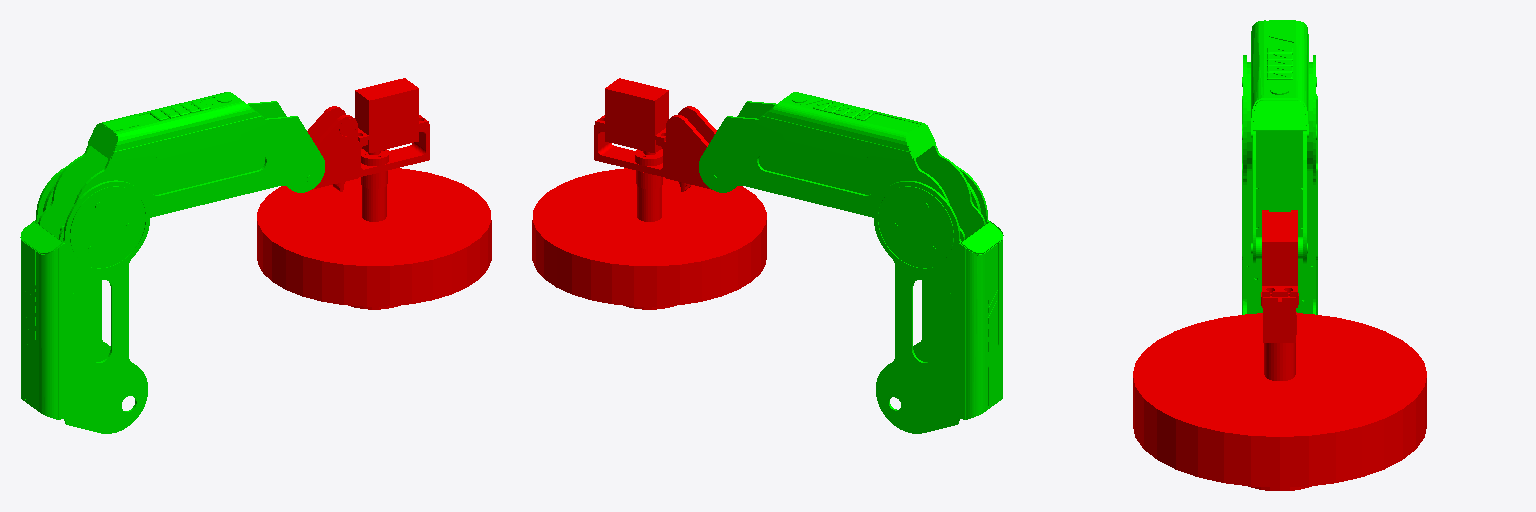
URDF robot description (magician):
<?xml version="1.0" ?>
<robot name="magician" xmlns:xi="http://www.w3.org/2001/XInclude">

  <material name="Red">
    <color rgba="1 0 0 1"/>
  </material>
  <material name="Green">
    <color rgba="0 1 0 1"/>
  </material>
  <material name="Blue">
    <color rgba="0 0 1 1"/>
  </material>
  <material name="Orange">
    <color rgba="1 0.6 0.0 1"/>
  </material>

  <link name="magician_root_link"/>
  <link name="magician_base_link">
    <visual>
      <origin rpy="0 0 0" xyz="0 0 0"/>
      <geometry>
        <mesh filename="package://dobot_kinematics/meshes/collision/core/magicianBase.dae"/>
      </geometry>
       <material name="Orange"/>
    </visual>
    <collision>
      <origin rpy="0 0 0" xyz="0 0 0"/>
      <geometry>
        <mesh filename="package://dobot_kinematics/meshes/collision/core/magicianBase.dae"/>
      </geometry>
      <material name="Orange"/>
    </collision>
  </link>
  <joint name="magician_joint_base" type="fixed">
    <parent link="magician_root_link"/>
    <child link="magician_base_link"/>
    <axis xyz="0 0 0"/>
    <limit effort="2000" lower="0" upper="0" velocity="1"/>
    <origin rpy="0 0 0" xyz="0 0 0"/>
    <dynamics damping="0.0" friction="0.0"/>
  </joint>
  <link name="magician_link_1">
    <visual>
      <origin rpy="0 0 0" xyz="0 0 0"/>
      <geometry>
        <mesh filename="package://dobot_kinematics/meshes/collision/core/magicianLink1.dae"/>
      </geometry>
             <material name="Green"/>
    </visual>
    <collision>
      <origin rpy="0 0 0" xyz="0 0 0"/>
      <geometry>
        <mesh filename="package://dobot_kinematics/meshes/collision/core/magicianLink1.dae"/>
      </geometry>
      <material name="Green"/>
    </collision>
  </link>
  <joint name="magician_joint_1" type="revolute">
    <parent link="magician_base_link"/>
    <child link="magician_link_1"/>
    <axis xyz="0 0 1"/>
    <limit effort="2000" lower="-2.1816615649929116" upper="2.1816615649929116" velocity="1"/>
    <origin rpy="0 0 0" xyz="0 0 0"/>
    <dynamics damping="0.0" friction="0.0"/>
  </joint>
  <link name="magician_link_2">
    <visual>
      <origin rpy="0 -0.3490658503988659 0" xyz="0 0 0"/>
      <geometry>
        <mesh filename="package://dobot_kinematics/meshes/collision/core/magicianLink2.dae"/>
      </geometry>
      <material name="Green"/>
    </visual>
    <collision>
      <origin rpy="0 -0.3490658503988659 0" xyz="0 0 0"/>
      <geometry>
        <mesh filename="package://dobot_kinematics/meshes/collision/core/magicianLink2.dae"/>
      </geometry>
      <material name="Green"/>
    </collision>
  </link>
  <joint name="magician_joint_2" type="revolute">
    <parent link="magician_link_1"/>
    <child link="magician_link_2"/>
    <axis xyz="0 1 0"/>
    <limit effort="2000" lower="-0.08726646259971647" upper="1.5707963267948966" velocity="1"/>
    <origin rpy="0 0.0 0" xyz="0 0 0.0"/>
    <dynamics damping="0.0" friction="0.0"/>
  </joint>
  <link name="magician_link_3">
    <visual>
      <origin rpy="0 -0.47123889803846897 0" xyz="0.01645236135969491 0 -0.13399373047157848"/>
      <geometry>
        <mesh filename="package://dobot_kinematics/meshes/collision/core/magicianLink3.dae"/>
      </geometry>
      <material name="Green"/>
    </visual>
    <collision>
      <origin rpy="0 -0.47123889803846897 0" xyz="0.01645236135969491 0 -0.13399373047157848"/>
      <geometry>
        <mesh filename="package://dobot_kinematics/meshes/collision/core/magicianLink3.dae"/>
      </geometry>
      <material name="Green"/>
    </collision>
  </link>
  <joint name="magician_joint_3" type="revolute">
    <parent link="magician_link_2"/>
    <child link="magician_link_3"/>
    <axis xyz="0 1 0"/>
    <limit effort="2000" lower="-0.2617993877991494" upper="1.2217304763960306" velocity="1"/>
    <origin rpy="0 0 0" xyz="0 0.0 0.135"/>
    <dynamics damping="0.0" friction="0.0"/>
  </joint>
  <joint name="magician_joint_mimic_1" type="revolute">
    <parent link="magician_link_3"/>
    <child link="magician_link_4"/>
    <axis xyz="0 1 0"/>
    <limit effort="2000" lower="-3.14159265359" upper="3.14159265359" velocity="1"/>
    <origin rpy="0 0 0" xyz="0.147 0 0"/>
    <dynamics damping="0.0" friction="0.0"/>
  </joint>
  <link name="magician_link_4">
    <visual>
      <origin rpy="0 0 0" xyz="-0.17715067840465534 0 -0.058595107267811"/>
      <geometry>
        <mesh filename="package://dobot_kinematics/meshes/collision/end_tools/gripper_collision_part1.dae"/>
      </geometry>
      <material name="Red"/>
    </visual>
    <collision>
      <origin rpy="0 0 0" xyz="-0.17715067840465534 0 -0.058595107267811"/>
      <geometry>
        <mesh filename="package://dobot_kinematics/meshes/collision/end_tools/gripper_collision_part1.dae"/>
      </geometry>
      <material name="Red"/>
    </collision>
  </link>
  <joint name="magician_joint_end_effector" type="fixed">
    <parent link="magician_link_4"/>
    <child link="end_effector_part"/>
    <origin rpy="0 0 0" xyz="0 0 0"/>
  </joint>
  <link name="end_effector_part">
    <visual>
      <origin rpy="0 0 0" xyz="-0.17715067840465534 0 -0.058595107267811"/>
      <geometry>
        <mesh filename="package://dobot_kinematics/meshes/collision/end_tools/gripper_collision_part2.dae"/>
      </geometry>
      <material name="Red"/>
    </visual>
    <collision>
      <origin rpy="0 0 0" xyz="-0.17715067840465534 0 -0.058595107267811"/>
      <geometry>
        <mesh filename="package://dobot_kinematics/meshes/collision/end_tools/gripper_collision_part2.dae"/>
      </geometry>
      <material name="Red"/>
    </collision>
  </link>
</robot>

--- Render facts (derived) ---
3 views of the same robot in one strip: view 1: azimuth 30°, elevation 25°; view 2: azimuth 150°, elevation 25°; view 3: azimuth 270°, elevation 25° (orthographic).
Robot: magician — 7 links, 6 joints (4 revolute, 2 fixed); root link magician_root_link; default pose: every joint at zero.
Visible links, largest first — view 1: magician_link_4, magician_link_2, magician_link_3; view 2: magician_link_4, magician_link_2, magician_link_3; view 3: magician_link_4, magician_link_2, magician_link_3.
Link boxes in pixels (x1=…): magician_link_4: x1=257, y1=78, x2=491, y2=306; magician_link_2: x1=20, y1=166, x2=149, y2=433; magician_link_3: x1=38, y1=92, x2=324, y2=240; magician_link_4: x1=532, y1=78, x2=766, y2=306; magician_link_2: x1=874, y1=166, x2=1003, y2=433; magician_link_3: x1=699, y1=92, x2=985, y2=240; magician_link_4: x1=1133, y1=210, x2=1426, y2=487; magician_link_2: x1=1242, y1=55, x2=1317, y2=314; magician_link_3: x1=1251, y1=20, x2=1308, y2=263.
Bounding box of the posed robot: 0.3544 × 0.162 × 0.223 m (x, y, z).
Meshes: 6 distinct files referenced, 4 mesh visuals loaded (4 Collada DAE); not drawn: 2 (reference not matched to a file when rendering).